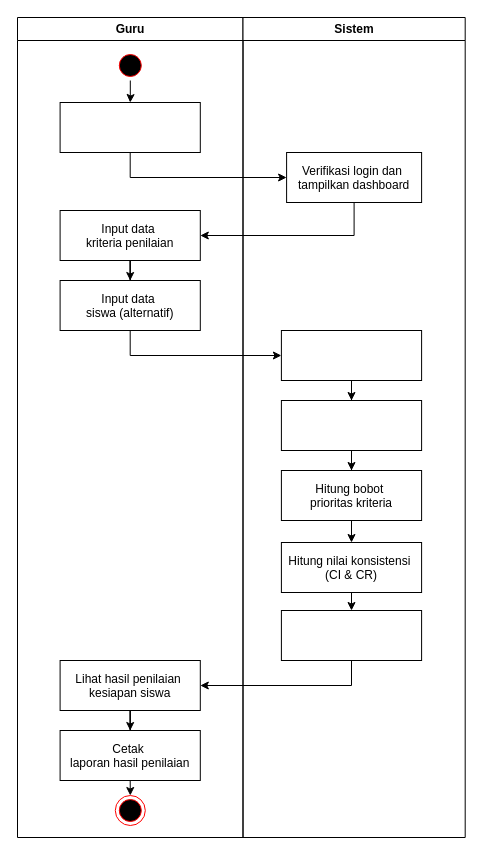
Image size: 483x855. Some labels were removed from this diagram. The centre of each missing label's shape, as x and y in pixels:
"Hitung skor akhir tiap siswa berdasarkan bobot kriteria" belongs at (351,635).
"Login ke aplikasi dengan username & password" belongs at (129,127).
"Proses perhitungan AHP (matriks perbandingan berpasangan)" belongs at (351,425).
"Simpan data ke database" belongs at (351,355).
